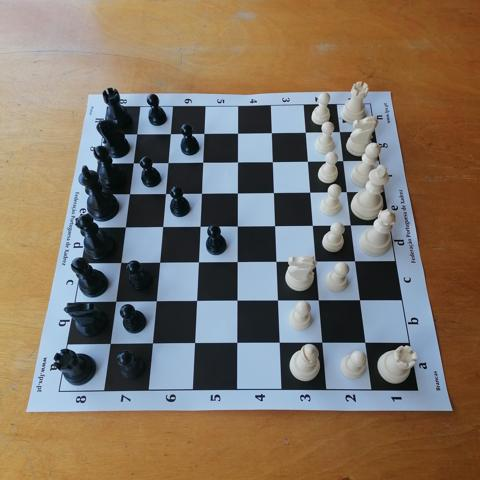xcorner: (144, 337, 159, 352), (187, 337, 202, 352), (229, 337, 244, 352), (272, 337, 287, 352), (315, 337, 330, 352), (358, 337, 373, 352), (107, 295, 122, 310), (148, 295, 163, 310), (188, 295, 203, 310), (229, 295, 244, 310), (353, 294, 368, 309), (112, 256, 127, 271), (151, 256, 166, 271), (190, 256, 205, 271), (308, 255, 323, 270), (348, 255, 363, 270), (116, 220, 131, 235), (154, 220, 169, 235), (229, 219, 244, 234), (267, 219, 282, 234), (305, 219, 320, 234), (343, 218, 358, 233), (120, 187, 135, 202), (156, 186, 171, 201), (229, 186, 244, 201), (302, 185, 317, 200), (159, 155, 174, 170), (194, 155, 209, 170), (229, 154, 244, 169), (264, 154, 279, 169), (335, 153, 350, 168), (161, 126, 176, 141), (195, 126, 210, 141), (229, 125, 244, 140), (263, 125, 278, 140), (297, 124, 312, 139), (102, 338, 117, 352), (270, 295, 285, 309), (312, 294, 326, 309), (229, 256, 244, 270), (269, 255, 283, 270), (191, 220, 206, 234), (193, 186, 207, 201), (266, 185, 280, 200), (339, 185, 354, 199), (124, 156, 139, 170), (300, 154, 315, 168), (127, 127, 142, 141), (332, 124, 346, 139)
